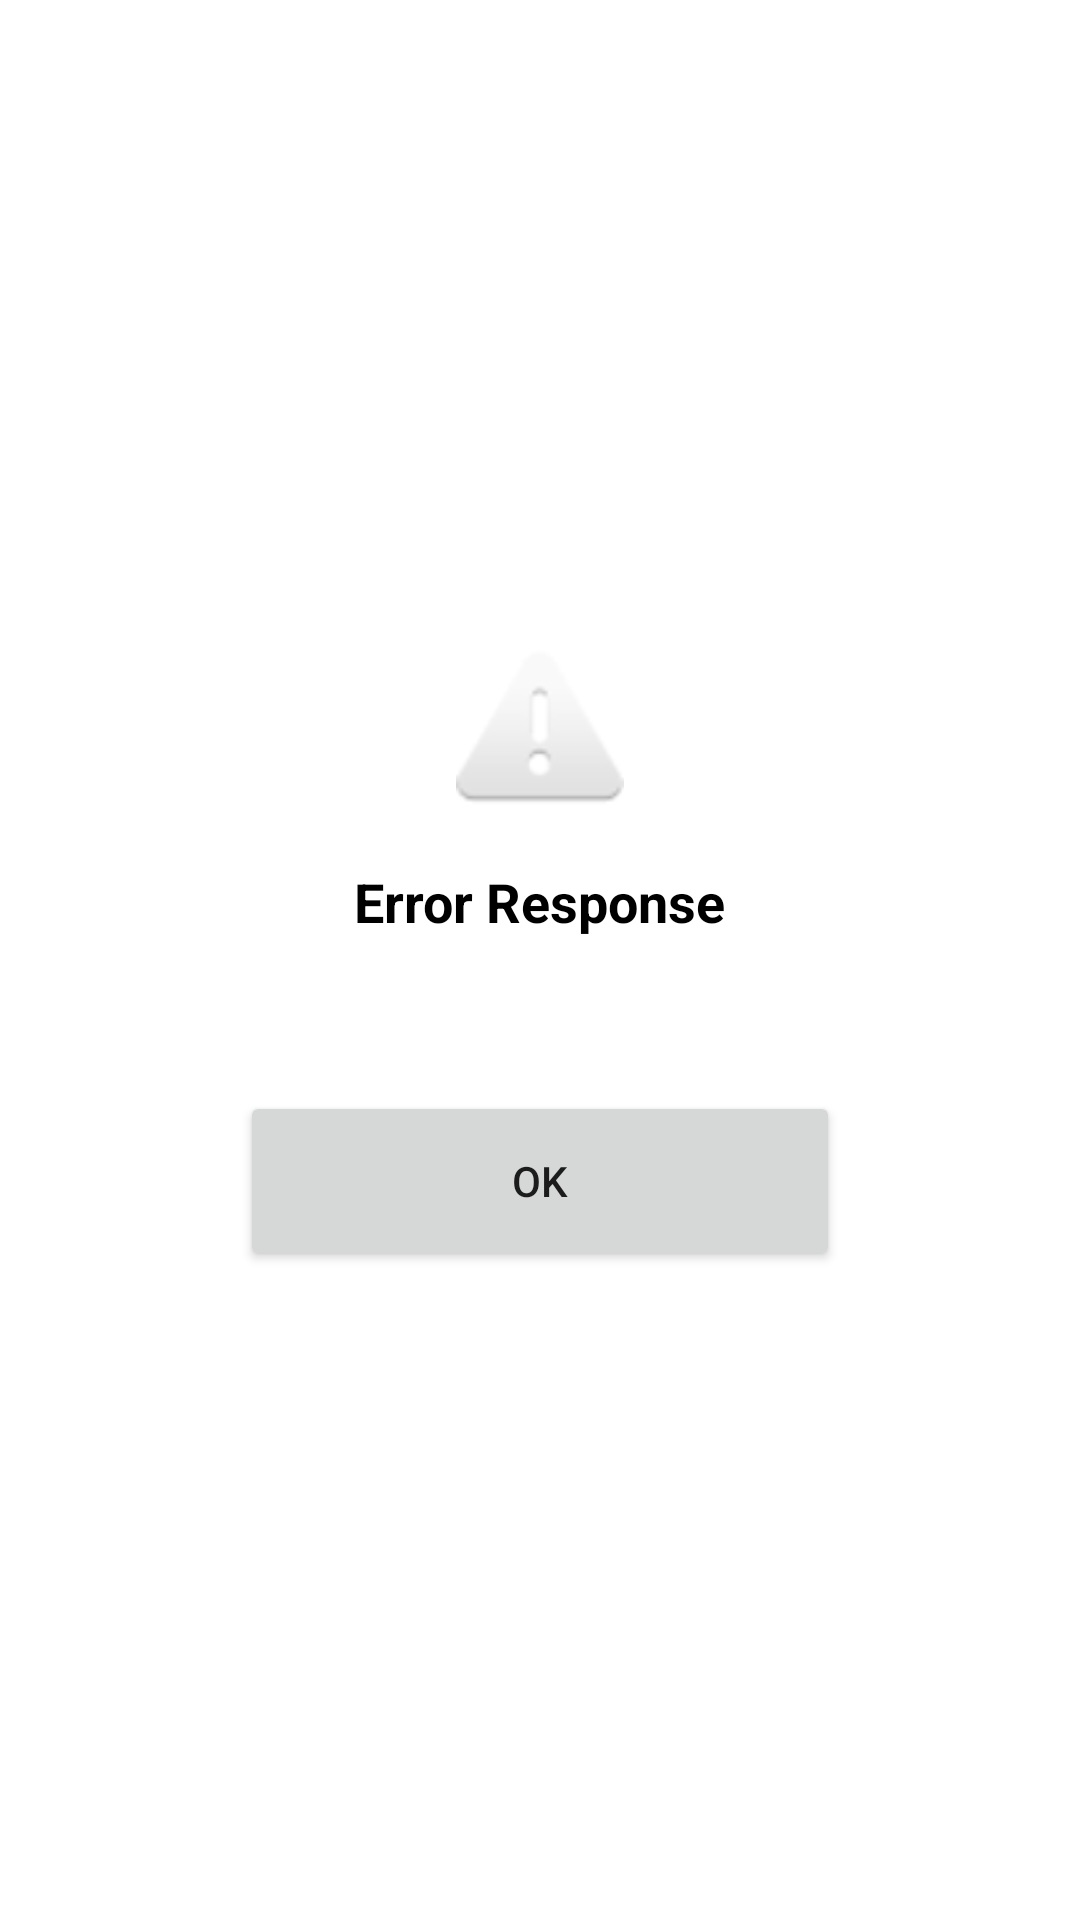

Named icons in this screenshot (1080w x 1920h) and their bounding boxes, (x1, y1, x2, y2):
alert: (456, 688, 624, 801)
